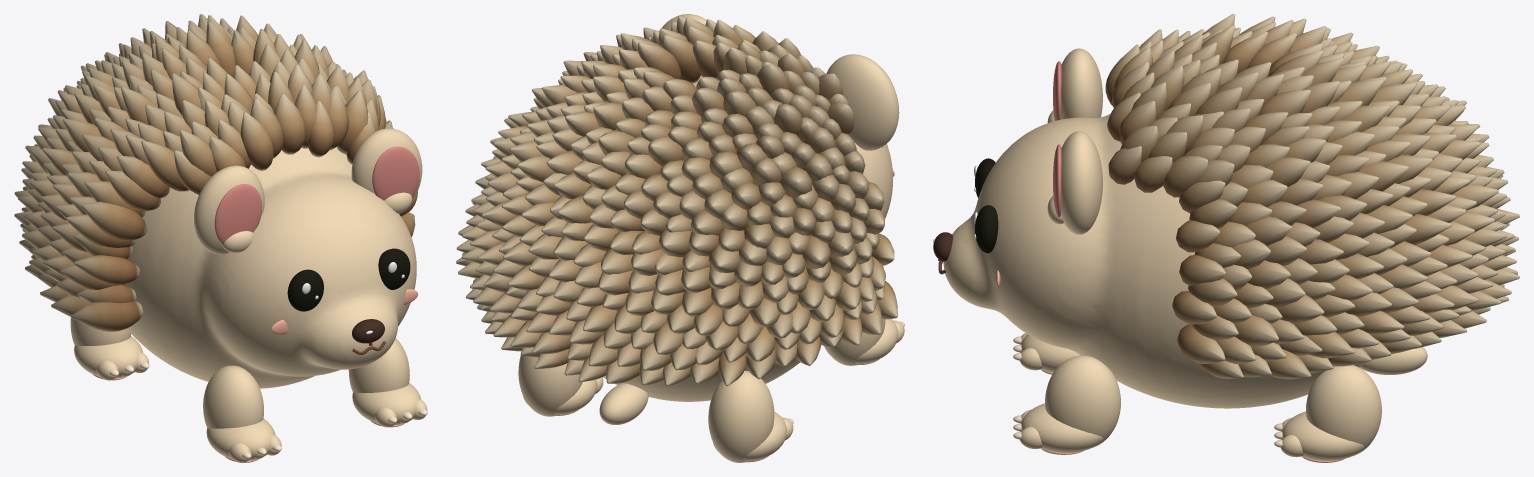
File: hedgehog-stage-10.glb
3 renders of one model, left to right at view 1: azimuth 30°, elevation 25°; view 2: azimuth 150°, elevation 25°; view 3: azimuth 270°, elevation 25°, orthographic. The views are drawn at different scales.
Parts seen in each view (by area): view 1: S10 • 390 individually formed rounded quills, S10 • seamless sculpted body and face, S10 • L front leg, S10 • L ear • outer rim, S10 • R front leg, S10 • L ear • recessed inner bowl, S10 • R ear • recessed inner bowl, S10 • R ear • outer rim, S10 • L front paw, S10 • L rear paw, S10 • R front paw, S10 • L glossy eye (+4 smaller); view 2: S10 • 390 individually formed rounded quills, S10 • L rear leg, S10 • L ear • outer rim, S10 • seamless sculpted body and face, S10 • R rear leg, S10 • small tail, S10 • L front leg, S10 • L rear paw, S10 • L front paw, S10 • R rear paw; view 3: S10 • 390 individually formed rounded quills, S10 • seamless sculpted body and face, S10 • R front leg, S10 • R rear leg, S10 • R ear • outer rim, S10 • L ear • outer rim, S10 • R front paw, S10 • R rear paw, S10 • small tail, S10 • L front paw, S10 • R glossy eye.
Boxes of the visible parts, x1,y1,x2,y2 form: S10 • 390 individually formed rounded quills: [14, 14, 417, 331]; S10 • seamless sculpted body and face: [125, 147, 416, 388]; S10 • L front leg: [203, 365, 263, 428]; S10 • L ear • outer rim: [194, 165, 264, 254]; S10 • R front leg: [348, 338, 409, 392]; S10 • L ear • recessed inner bowl: [214, 184, 262, 243]; S10 • R ear • recessed inner bowl: [372, 146, 419, 200]; S10 • R ear • outer rim: [351, 128, 422, 199]; S10 • L front paw: [206, 418, 275, 460]; S10 • L rear paw: [74, 336, 142, 378]; S10 • R front paw: [352, 383, 421, 425]; S10 • L glossy eye: [287, 269, 323, 311]; S10 • 390 individually formed rounded quills: [456, 16, 897, 385]; S10 • L rear leg: [708, 370, 774, 462]; S10 • L ear • outer rim: [826, 54, 899, 150]; S10 • seamless sculpted body and face: [603, 75, 893, 401]; S10 • R rear leg: [518, 355, 582, 416]; S10 • small tail: [599, 383, 648, 424]; S10 • L front leg: [825, 319, 885, 365]; S10 • L rear paw: [713, 412, 787, 461]; S10 • L front paw: [824, 319, 898, 364]; S10 • R rear paw: [523, 379, 597, 415]; S10 • 390 individually formed rounded quills: [1105, 14, 1519, 379]; S10 • seamless sculpted body and face: [943, 114, 1366, 408]; S10 • R front leg: [1045, 355, 1120, 447]; S10 • R rear leg: [1306, 365, 1381, 454]; S10 • R ear • outer rim: [1061, 131, 1102, 234]; S10 • L ear • outer rim: [1061, 48, 1102, 119]; S10 • R front paw: [1021, 403, 1103, 452]; S10 • R rear paw: [1282, 411, 1364, 460]; S10 • small tail: [1359, 347, 1427, 374]; S10 • L front paw: [1021, 334, 1079, 372]; S10 • R glossy eye: [975, 205, 998, 253].
Size of the model in its own units: 2.39 by 2.14 by 3.08.
